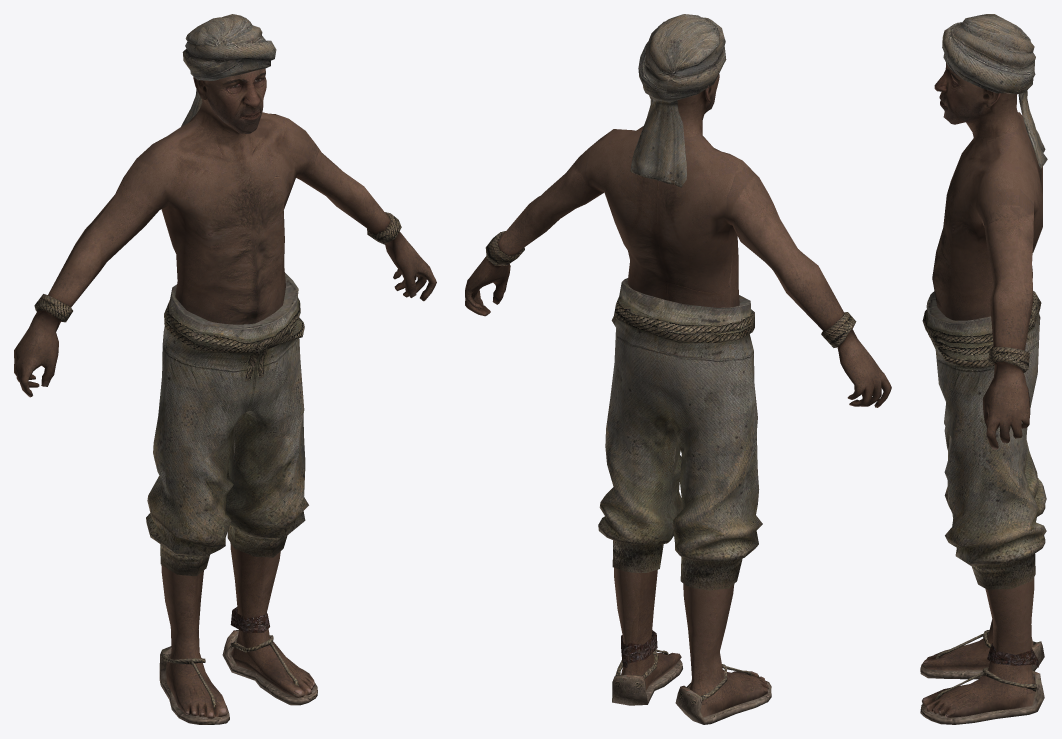
File: Worker.obj
3 views of the same model, side by side, from view 1: azimuth 30°, elevation 25°; view 2: azimuth 150°, elevation 25°; view 3: azimuth 270°, elevation 25° (orthographic).
Parts seen in each view (by area): view 1: sk_ch_worker_01_01.mo_sk_ch_worker_01_01.md; view 2: sk_ch_worker_01_01.mo_sk_ch_worker_01_01.md; view 3: sk_ch_worker_01_01.mo_sk_ch_worker_01_01.md.
Boxes of the visible parts, box(x1,y1,x2,y2) form: sk_ch_worker_01_01.mo_sk_ch_worker_01_01.md: box(14, 14, 436, 724); sk_ch_worker_01_01.mo_sk_ch_worker_01_01.md: box(465, 14, 891, 724); sk_ch_worker_01_01.mo_sk_ch_worker_01_01.md: box(920, 14, 1047, 724).
Size of the model in its own units: 81.78 by 127 by 21.77.
Materials: 1 (1 with a texture image).
